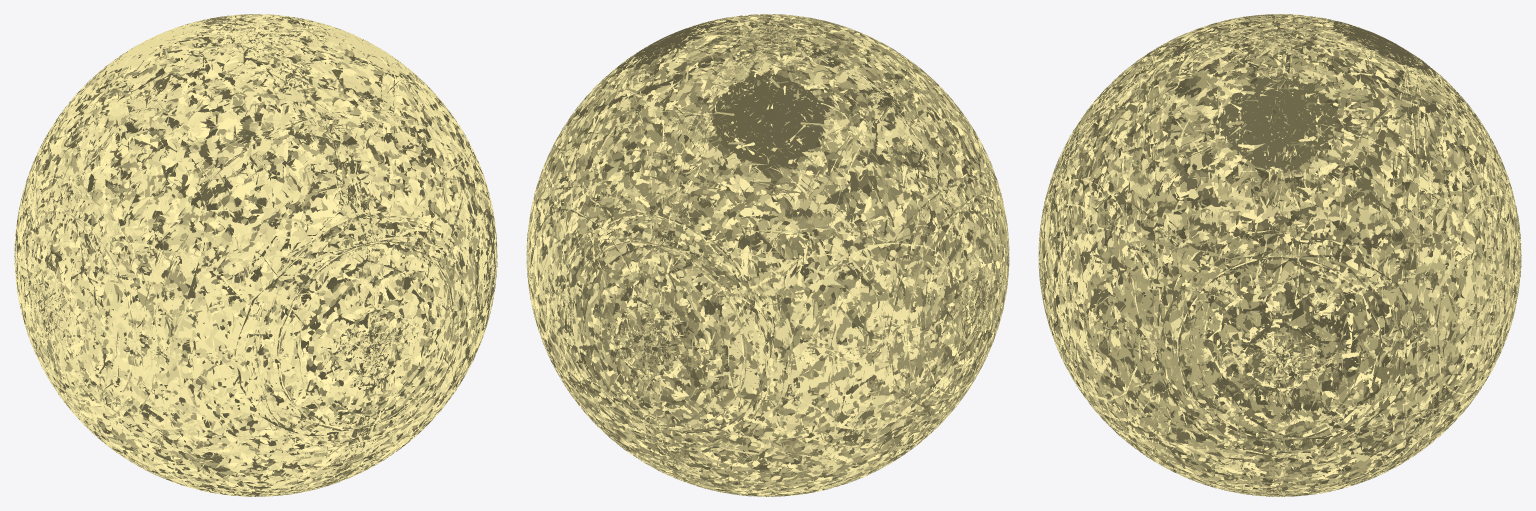
File: sys-cd-lighting.glb
3 renders of one model, left to right at view 1: azimuth 30°, elevation 25°; view 2: azimuth 150°, elevation 25°; view 3: azimuth 270°, elevation 25°, orthographic.
Visible parts, largest first — view 1: TS-cd-lighting-1688, TS-cd-lighting-1685, TS-cd-lighting-1686; view 2: TS-cd-lighting-1688, TS-cd-lighting-1685, TS-cd-lighting-1686; view 3: TS-cd-lighting-1688, TS-cd-lighting-1685, TS-cd-lighting-1686.
Part boxes in pixels (x1,y1,x2,y2): TS-cd-lighting-1688: [14, 14, 497, 496]; TS-cd-lighting-1685: [14, 14, 497, 496]; TS-cd-lighting-1686: [14, 14, 497, 496]; TS-cd-lighting-1688: [526, 14, 1009, 496]; TS-cd-lighting-1685: [526, 14, 1009, 496]; TS-cd-lighting-1686: [526, 14, 1009, 496]; TS-cd-lighting-1688: [1038, 14, 1521, 496]; TS-cd-lighting-1685: [1038, 14, 1521, 496]; TS-cd-lighting-1686: [1038, 14, 1521, 496].
Size of the model in its own units: 2 by 2 by 2.
